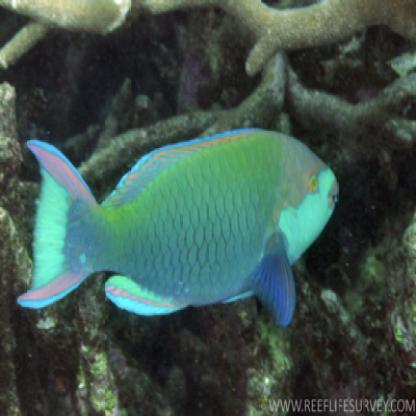Scaridae -Parrotfishes-: (15, 107, 340, 337)
